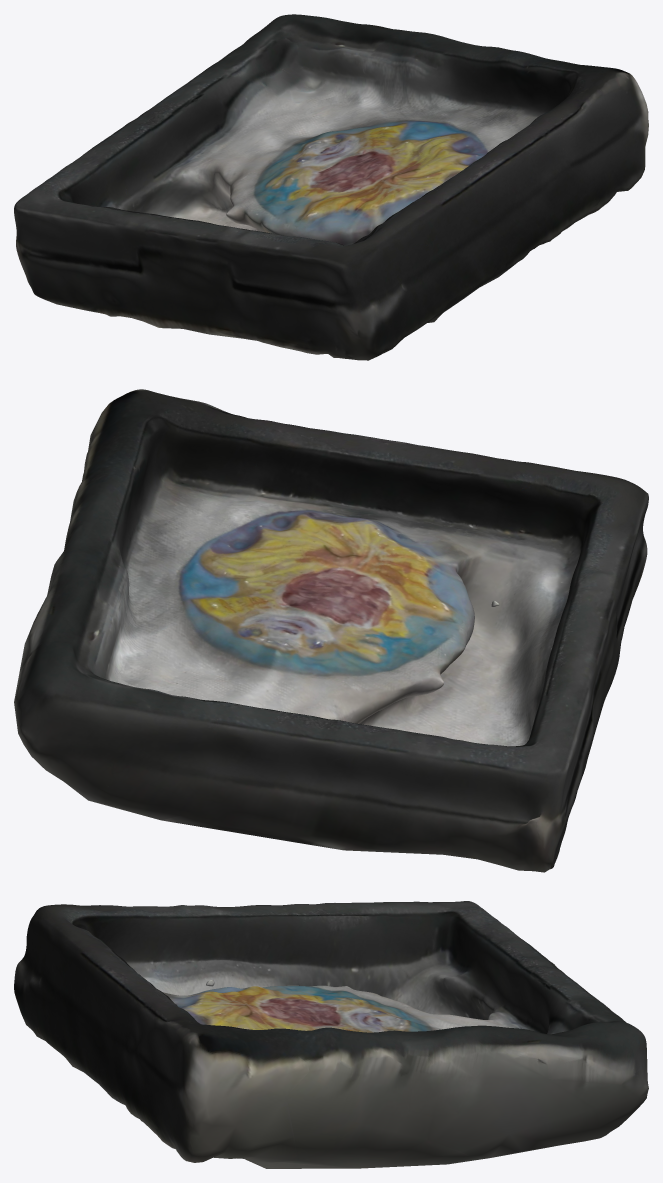
3 views of the same model, one above another, from view 1: azimuth 30°, elevation 25°; view 2: azimuth 150°, elevation 25°; view 3: azimuth 270°, elevation 25° (orthographic). The views are drawn at different scales.
Size of the model in its own units: 0.9151 by 0.3505 by 0.9156.
Materials: 1 (1 with a texture image).
